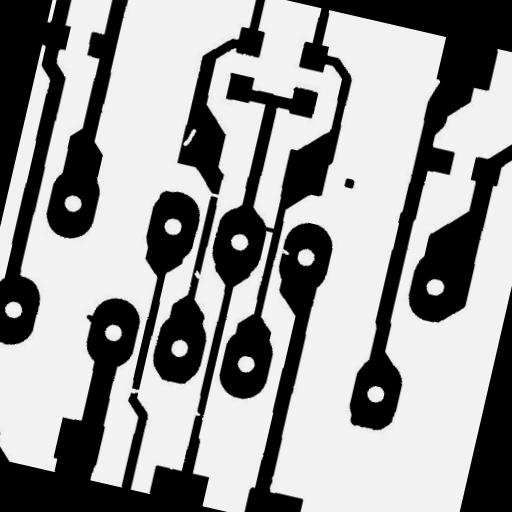copper: (335, 168, 364, 198)
mousebite: (184, 261, 210, 288), (272, 239, 299, 264), (185, 401, 210, 425)
open: (119, 378, 149, 404), (199, 182, 230, 207)
pin-hole: (174, 118, 206, 156)
short: (252, 216, 284, 242)
spur: (76, 305, 103, 331)
